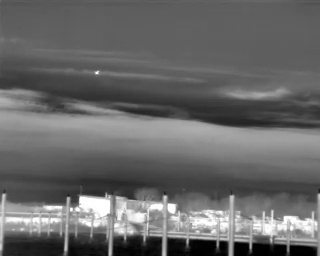BIRD: (92, 67, 102, 77)
